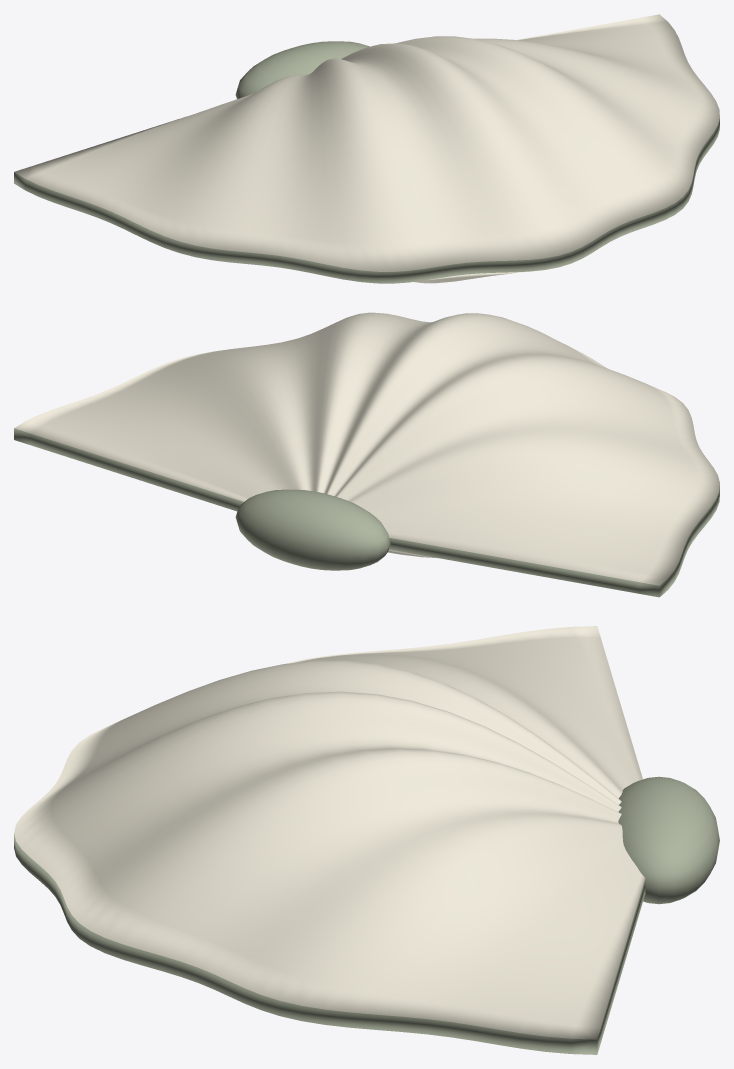
Rendered from hermes-shell.glb.
3 views of the same model, one above another, from view 1: azimuth 30°, elevation 25°; view 2: azimuth 150°, elevation 25°; view 3: azimuth 270°, elevation 25° (orthographic). The views are drawn at different scales.
Parts seen in each view (by area): view 1: shell_lid, shell-hinge, shell_seat; view 2: shell_lid, shell-hinge; view 3: shell_lid, shell-hinge.
Boxes of the visible parts, x1,y1,x2,y2 form: shell_lid: [14, 14, 719, 283]; shell-hinge: [235, 41, 369, 98]; shell_seat: [293, 269, 526, 283]; shell_lid: [14, 312, 719, 597]; shell-hinge: [235, 489, 390, 570]; shell_lid: [14, 626, 645, 1054]; shell-hinge: [618, 776, 719, 904].
Size of the model in its own units: 2.09 by 0.5996 by 1.5.
